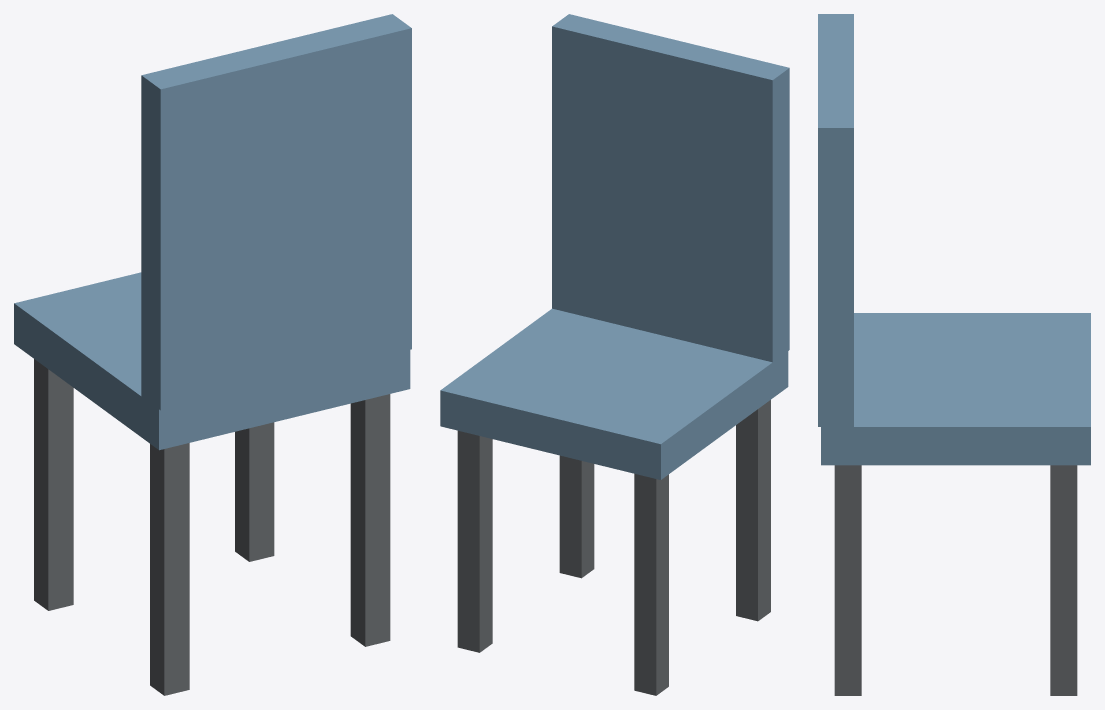
The model's file is chair_02.glb.
The picture shows the model from 3 angles, left to right: view 1: azimuth 30°, elevation 25°; view 2: azimuth 150°, elevation 25°; view 3: azimuth 270°, elevation 25°; orthographic projection. The views are drawn at different scales.
Parts seen in each view (by area): view 1: back, seat, leg0.180.18, leg-0.180.18, leg-0.18-0.18, leg0.18-0.18; view 2: back, seat, leg0.18-0.18, leg-0.18-0.18, leg-0.180.18, leg0.180.18; view 3: seat, back, leg0.18-0.18, leg0.180.18.
Part boxes in pixels (box(x1,y1,x2,y2)): back: box(141, 14, 411, 410); seat: box(14, 272, 410, 450); leg0.180.18: box(350, 394, 390, 646); leg-0.180.18: box(150, 443, 189, 695); leg-0.18-0.18: box(34, 359, 73, 610); leg0.18-0.18: box(235, 422, 274, 561); back: box(552, 14, 789, 362); seat: box(440, 308, 788, 479); leg0.18-0.18: box(457, 430, 492, 652); leg-0.18-0.18: box(634, 473, 668, 695); leg-0.180.18: box(736, 400, 770, 621); leg0.180.18: box(559, 455, 594, 578); seat: box(821, 313, 1090, 465); back: box(818, 14, 853, 426); leg0.18-0.18: box(1050, 465, 1077, 695); leg0.180.18: box(834, 465, 861, 695).
Bounding box in the file's own units: 0.45 × 1.05 × 0.455.
